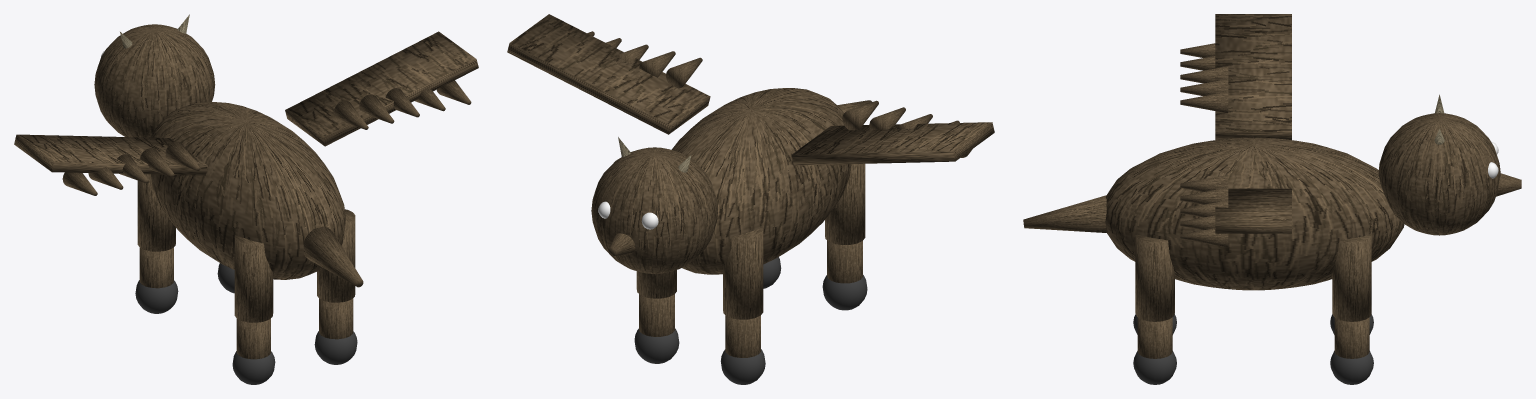
File: griffin.glb
3 renders of one model, left to right at view 1: azimuth 30°, elevation 25°; view 2: azimuth 150°, elevation 25°; view 3: azimuth 270°, elevation 25°, orthographic. The views are drawn at different scales.
Parts seen in each view (by area): view 1: Body, Head, Wing.001, Wing, LegUpper, LegUpper.001, Tail, LegUpper.002, LegLower.002, LegLower, LegLower.001, Paw.002 (+11 smaller); view 2: Body, Head, Wing.001, Wing, LegUpper.001, LegUpper, LegLower.003, LegLower, LegLower.001, Paw, Paw.001, Paw.003 (+7 smaller); view 3: Body, Head, Wing, Wing.001, LegUpper.002, LegUpper.003, Tail, LegLower.002, LegLower.003, Paw.003, Paw.002, Feather (+6 smaller).
Part boxes in pixels (box(x1,y1,x2,y2)): Body: box(151, 102, 345, 279); Head: box(94, 24, 215, 137); Wing.001: box(285, 31, 478, 146); Wing: box(14, 134, 207, 175); LegUpper: box(234, 235, 273, 322); LegUpper.001: box(137, 174, 175, 251); Tail: box(303, 226, 363, 287); LegUpper.002: box(317, 209, 355, 302); LegLower.002: box(319, 298, 353, 339); LegLower: box(236, 318, 270, 359); LegLower.001: box(139, 247, 173, 288); Paw.002: box(314, 331, 357, 364); Body: box(671, 88, 851, 274); Head: box(591, 147, 717, 273); Wing.001: box(507, 14, 710, 134); Wing: box(791, 122, 994, 165); LegUpper.001: box(723, 227, 763, 319); LegUpper: box(825, 163, 865, 244); LegLower.003: box(639, 294, 674, 336); LegLower: box(827, 240, 862, 283); LegLower.001: box(725, 315, 760, 357); Paw: box(822, 275, 867, 310); Paw.001: box(720, 349, 765, 384); Paw.003: box(634, 328, 679, 363); Body: box(1105, 137, 1404, 290); Head: box(1378, 113, 1500, 235); Wing: box(1215, 14, 1291, 139); Wing.001: box(1215, 188, 1291, 233); LegUpper.002: box(1135, 234, 1174, 321); LegUpper.003: box(1332, 234, 1371, 321); Tail: box(1023, 195, 1106, 232); LegLower.002: box(1137, 317, 1172, 358); LegLower.003: box(1334, 317, 1369, 358); Paw.003: box(1330, 350, 1373, 384); Paw.002: box(1133, 351, 1176, 384); Feather: box(1180, 91, 1228, 113).
Bounding box in the file's own units: 1.77 × 0.9814 × 1.76.
Materials: 6 (4 with a texture image).
